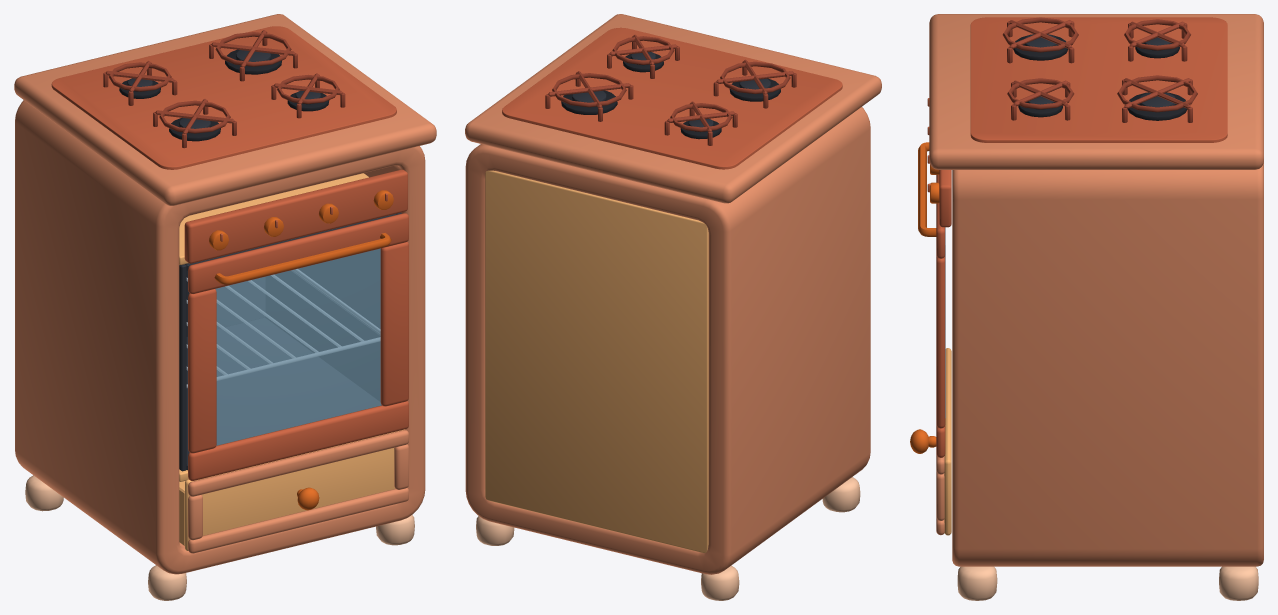
File: fogao_modulo_campestre.glb
The picture shows the model from 3 angles, left to right: view 1: azimuth 30°, elevation 25°; view 2: azimuth 150°, elevation 25°; view 3: azimuth 270°, elevation 25°; orthographic projection. The views are drawn at different scales.
Parts seen in each view (by area): view 1: fogao_modulo_campestre, porta_forno, gaveta_1; view 2: fogao_modulo_campestre; view 3: fogao_modulo_campestre, porta_forno, gaveta_1.
Part boxes in pixels (x1,y1,x2,y2): fogao_modulo_campestre: [14, 14, 436, 600]; porta_forno: [188, 213, 408, 480]; gaveta_1: [179, 429, 408, 553]; fogao_modulo_campestre: [465, 14, 881, 600]; fogao_modulo_campestre: [927, 14, 1263, 600]; porta_forno: [918, 142, 945, 457]; gaveta_1: [910, 348, 951, 535].
Bounding box in the file's own units: 0.598 × 0.939 × 0.6336.
2 materials, 1 textured.
